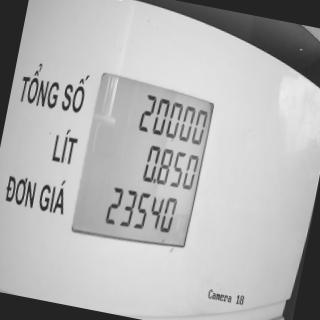screen: (67, 64, 219, 254)
